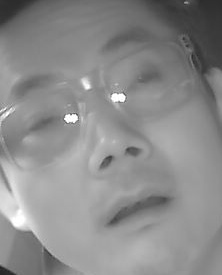glass: (1, 79, 82, 171), (100, 39, 195, 117)
mouth: (99, 181, 181, 234)
